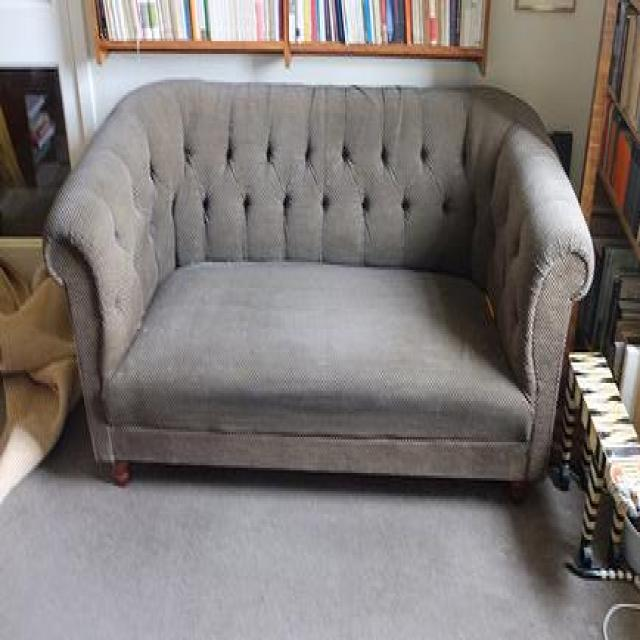sofa: (41, 72, 598, 504)
